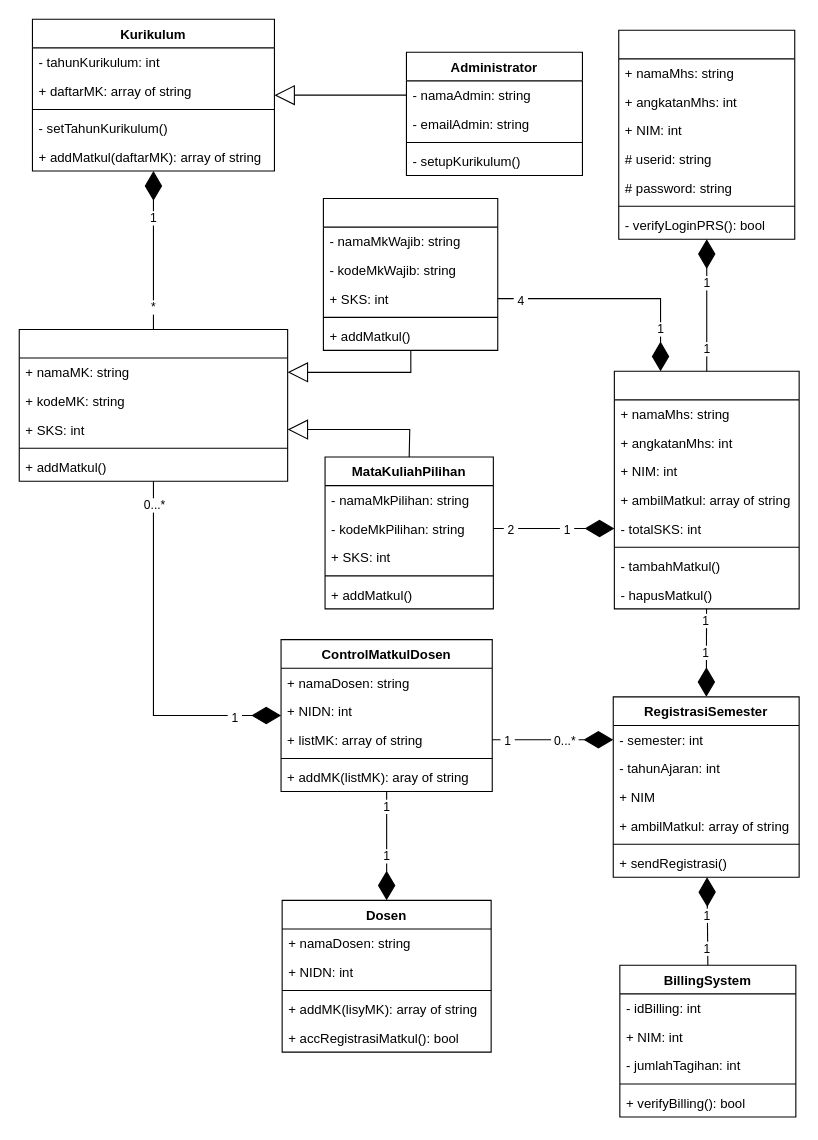
Image size: 818x1140. Some labels were removed from this diagram. Here are the shapes that lost their labels. From the top down, the box of each, then its label:
(618, 29, 795, 239): Mahasiswa
(322, 197, 498, 350): MataKuliahWajib
(18, 328, 288, 481): MataKuliah
(613, 370, 799, 609): SystemPRS
